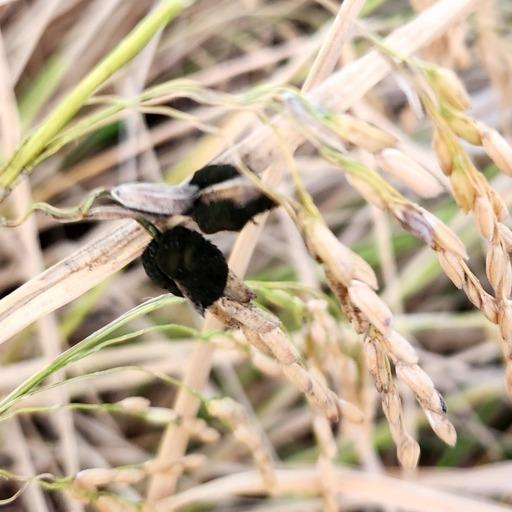Leaf_Scald: (136, 160, 262, 310)
